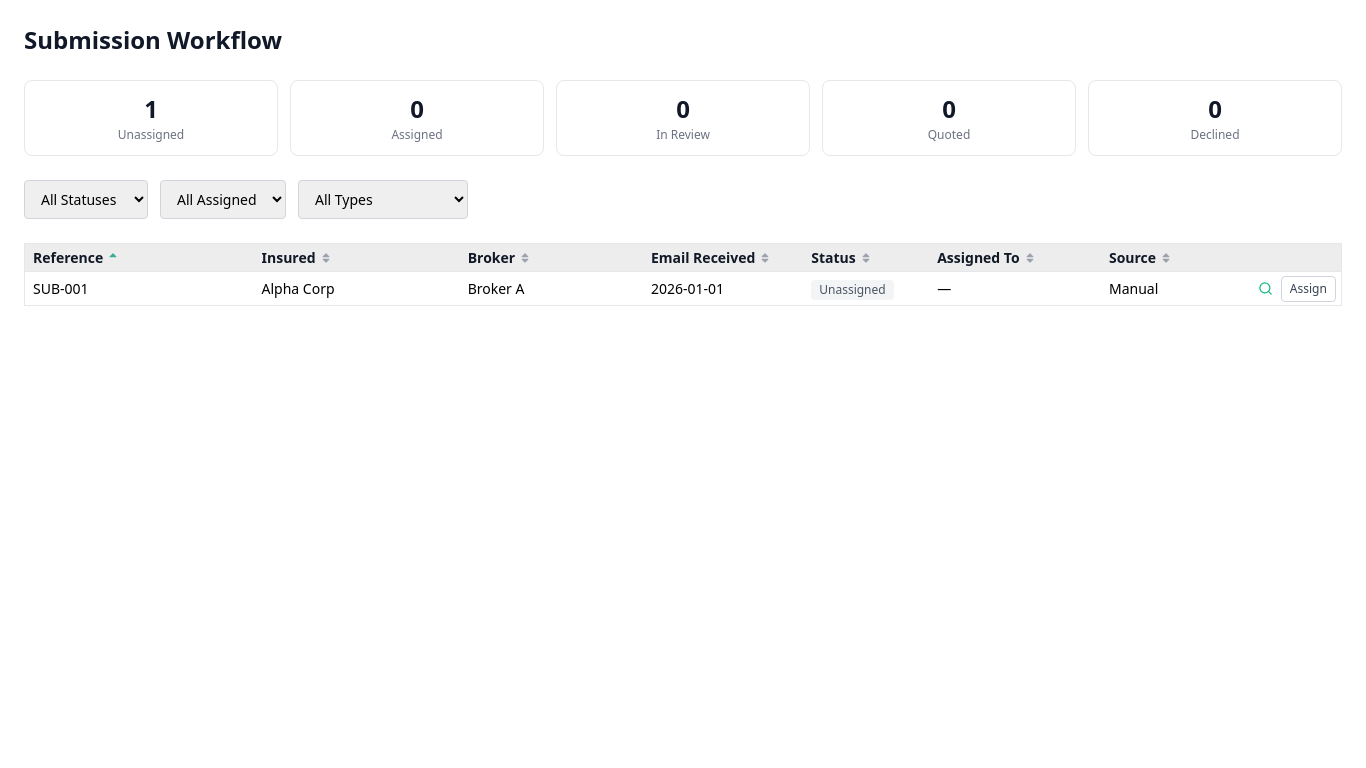
Test: WorkflowPage — /workflow/submissions › T-WF-FE-F-R019 — assignment modal Cancel button closes the modal
Click the button "Assign".
click(1308, 289)  # box [1281,276,1336,302]
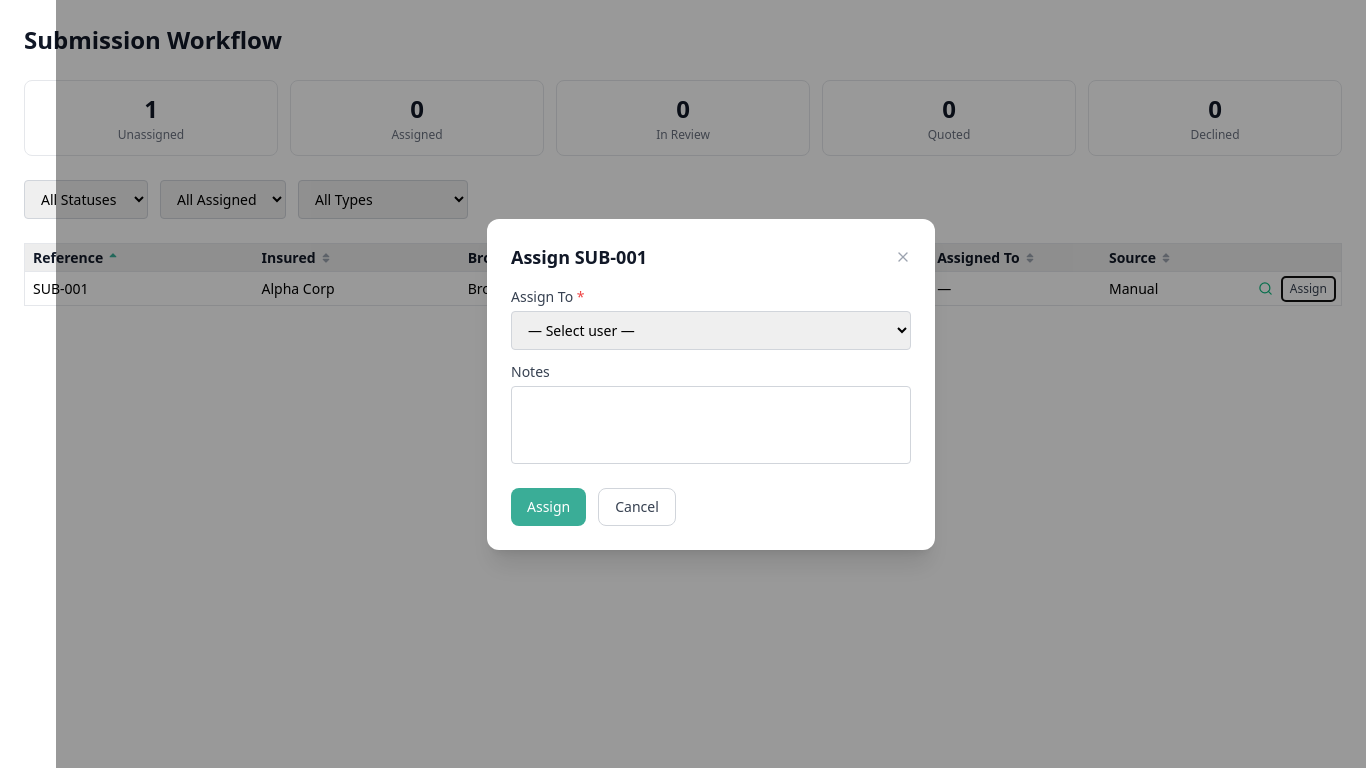
Check: the button "Cancel" is shown
Click the button "Cancel".
click(637, 506)  # box [598,488,676,526]
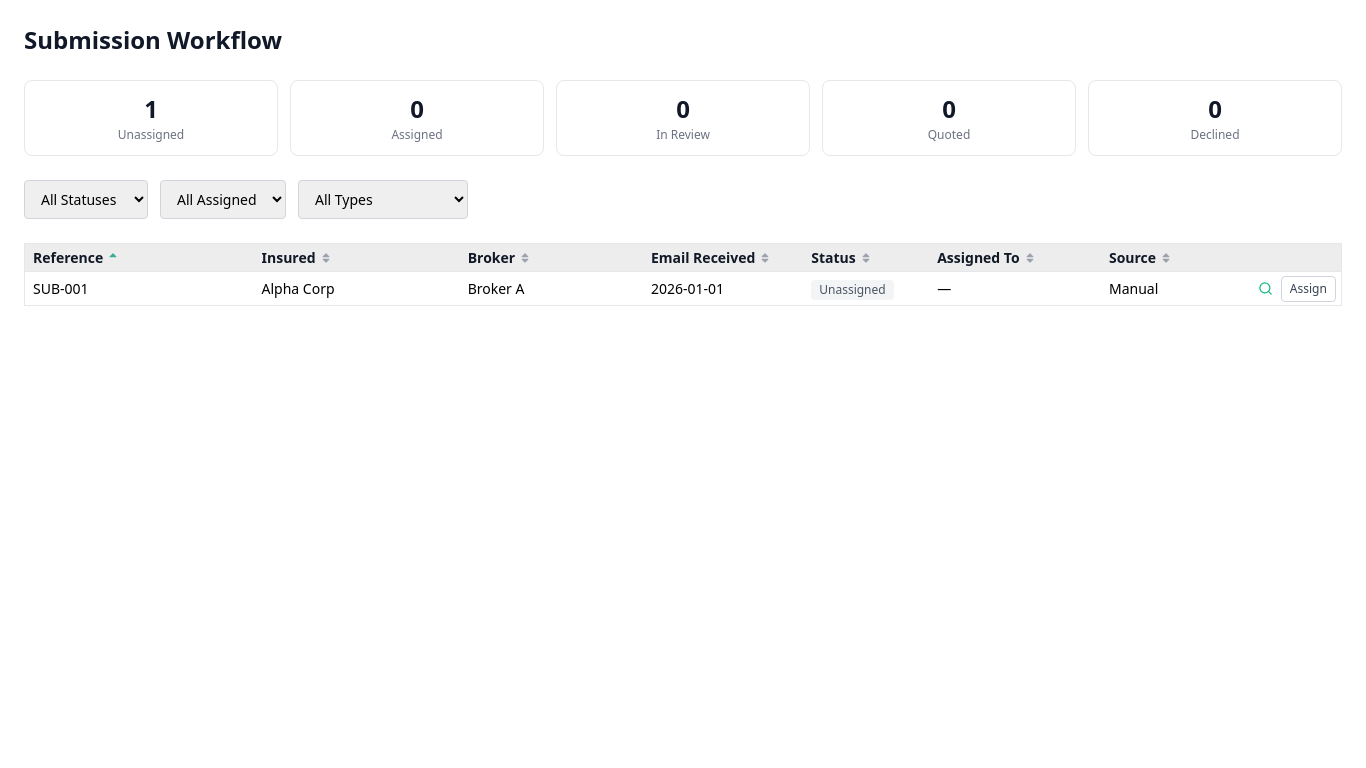
Check: the button "Cancel" is gone
